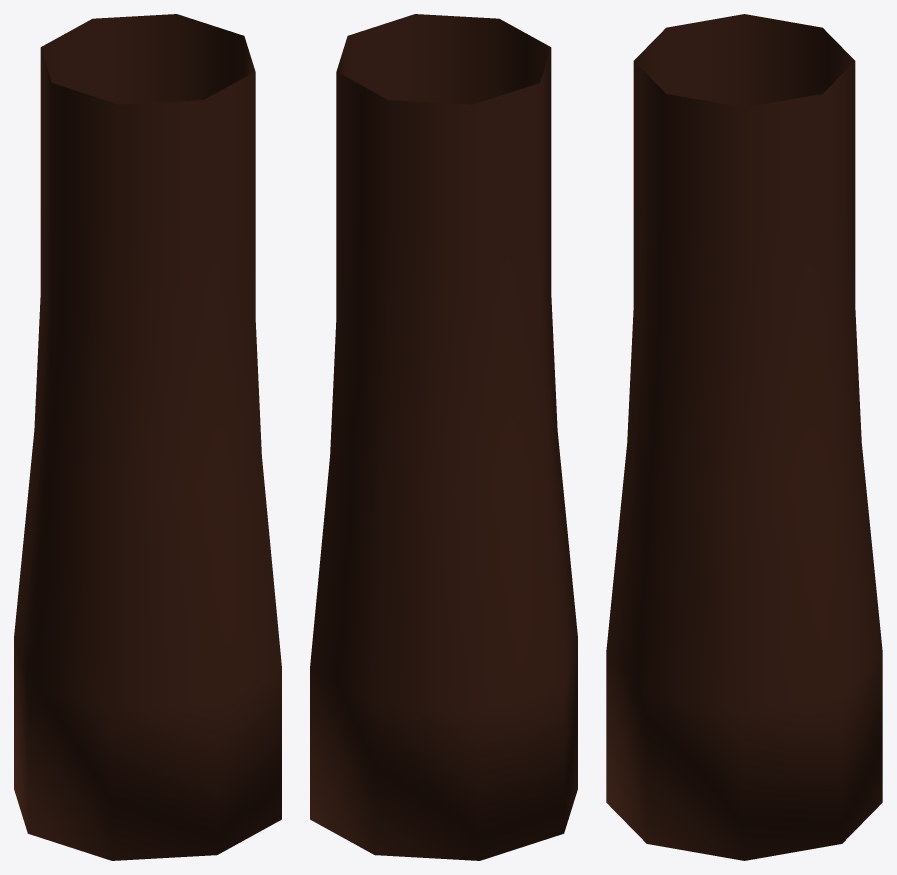
The model's file is M_Zypresse_Single_Bottom.fbx.
3 views of the same model, side by side, from view 1: azimuth 30°, elevation 25°; view 2: azimuth 150°, elevation 25°; view 3: azimuth 270°, elevation 25° (orthographic).
Parts seen in each view (by area): view 1: Stamm; view 2: Stamm; view 3: Stamm.
Boxes of the visible parts, x1,y1,x2,y2 form: Stamm: (14,14,281,860); Stamm: (310,14,577,860); Stamm: (606,14,882,860).
Size of the model in its own units: 20.38 by 20.38 by 60.39.
